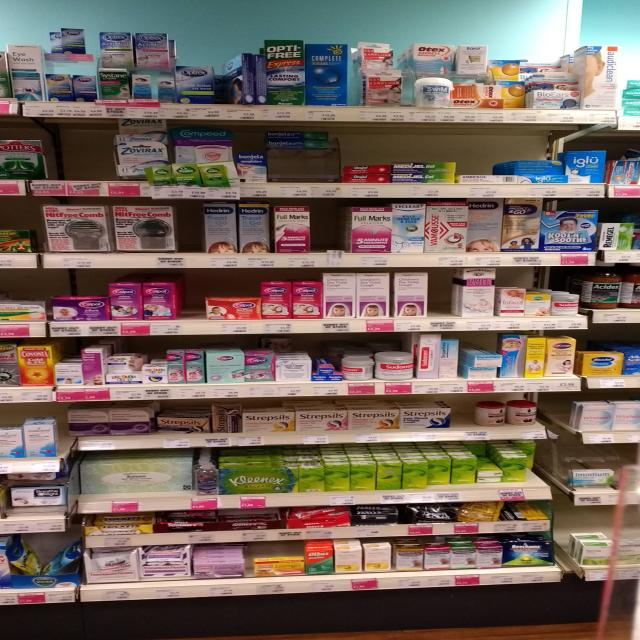void: (78, 119, 114, 196), (44, 120, 76, 195), (430, 265, 463, 332), (177, 198, 205, 268), (318, 202, 348, 266), (177, 270, 206, 334), (450, 396, 477, 439)
